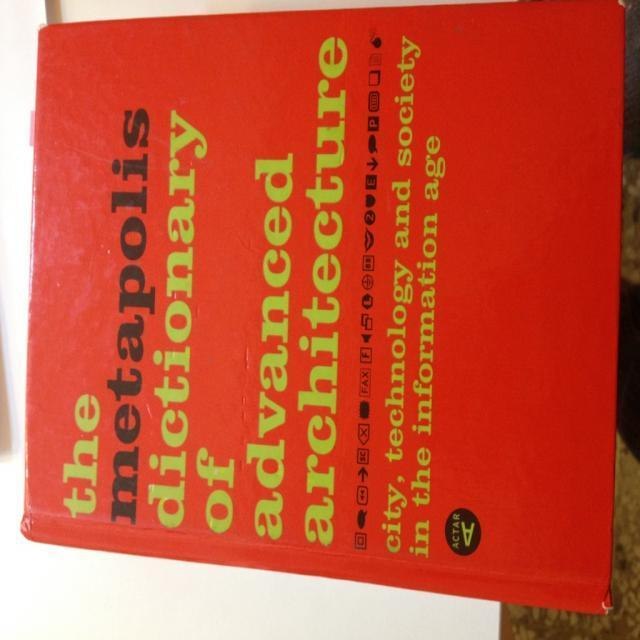book: (18, 2, 628, 614)
